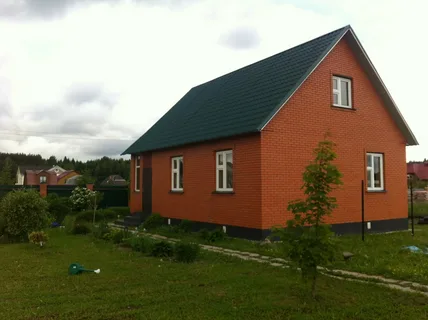private_hause: (128, 24, 414, 237)
